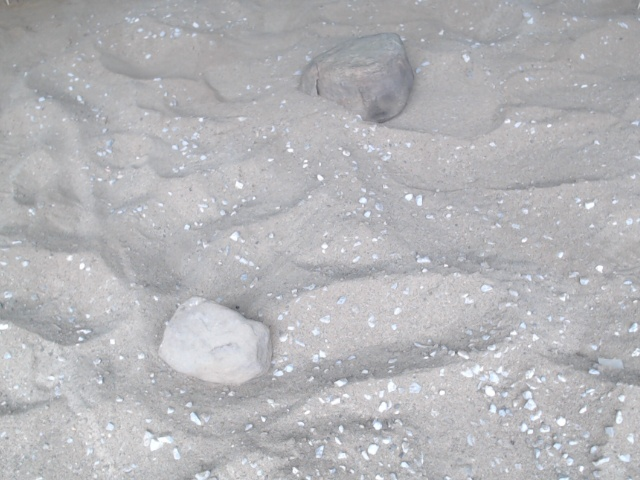rock: (293, 27, 421, 129), (153, 291, 278, 392)
